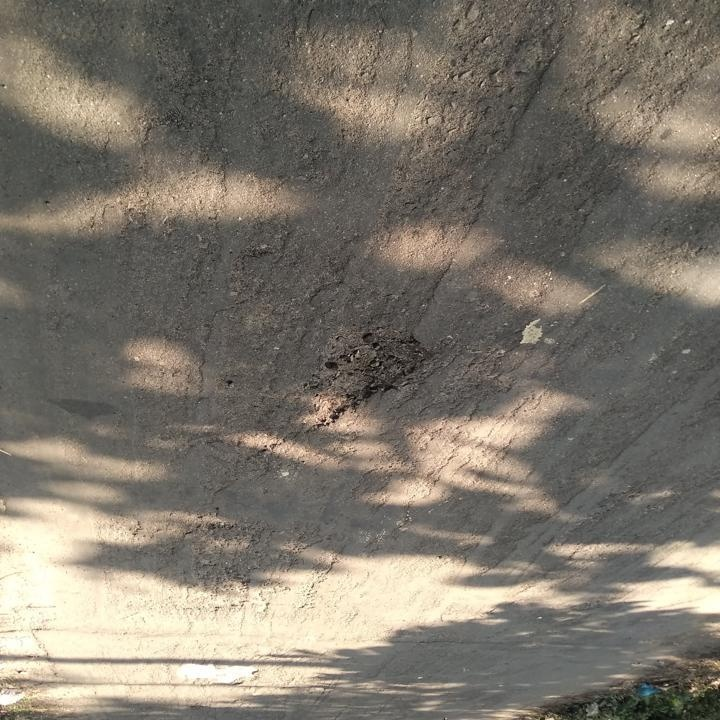pothole: (301, 322, 435, 430)
